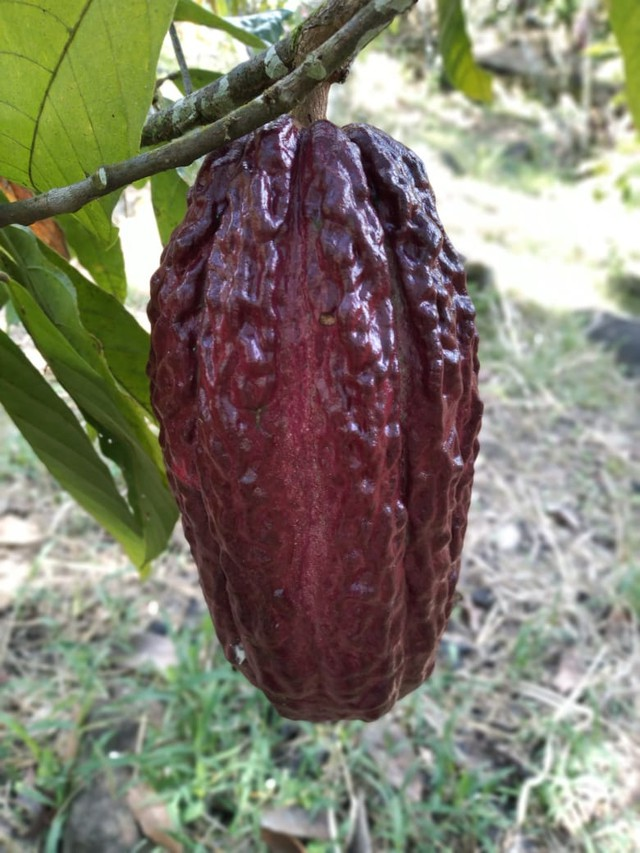Health: (146, 106, 490, 724)
